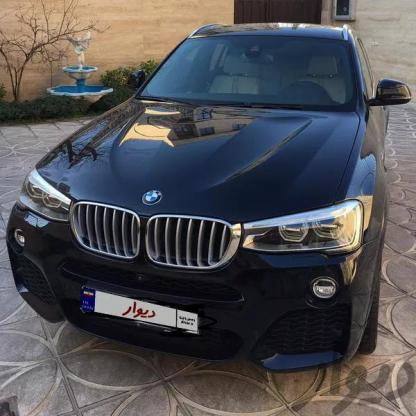Car: (7, 21, 403, 369)
